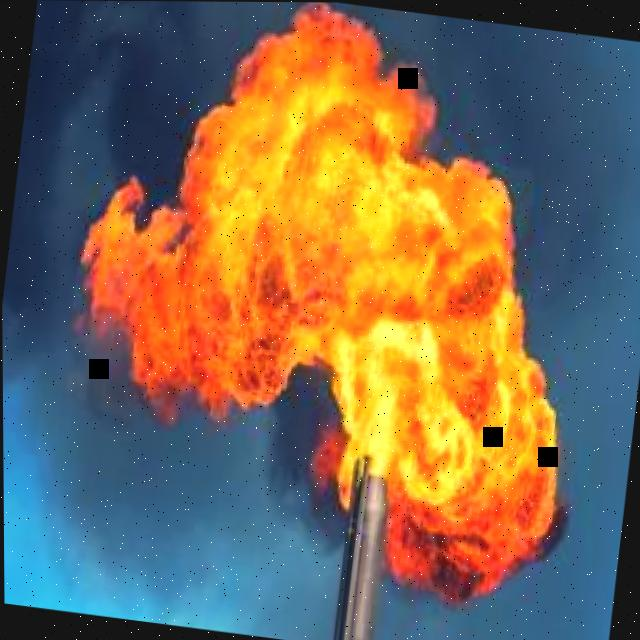fire: (73, 2, 569, 604)
smoke: (2, 0, 347, 640), (333, 2, 640, 640), (248, 375, 334, 546)
